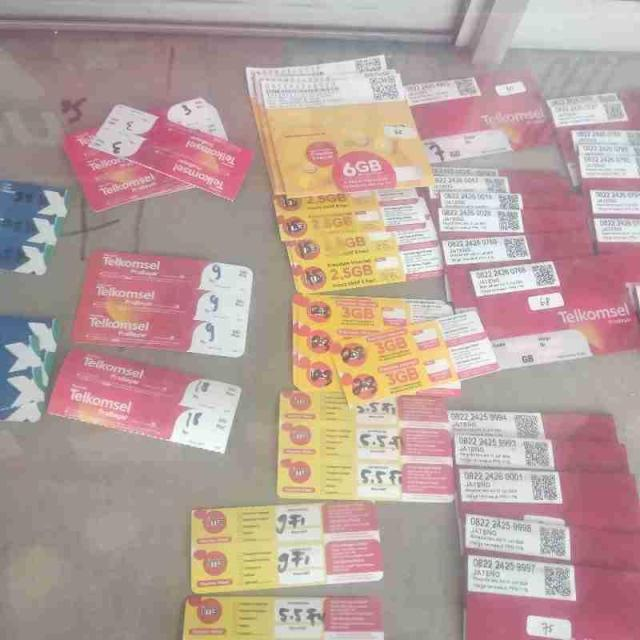Gratis Nelpon: (0, 179, 65, 277), (1, 312, 54, 419)
Telkomsel: (451, 409, 640, 637), (51, 349, 237, 456), (77, 246, 256, 352), (69, 104, 248, 207), (474, 256, 636, 354), (413, 62, 559, 156), (446, 166, 592, 254)
im3: (187, 496, 386, 638), (244, 57, 432, 183), (263, 177, 442, 291), (273, 388, 452, 496), (270, 296, 471, 386)
